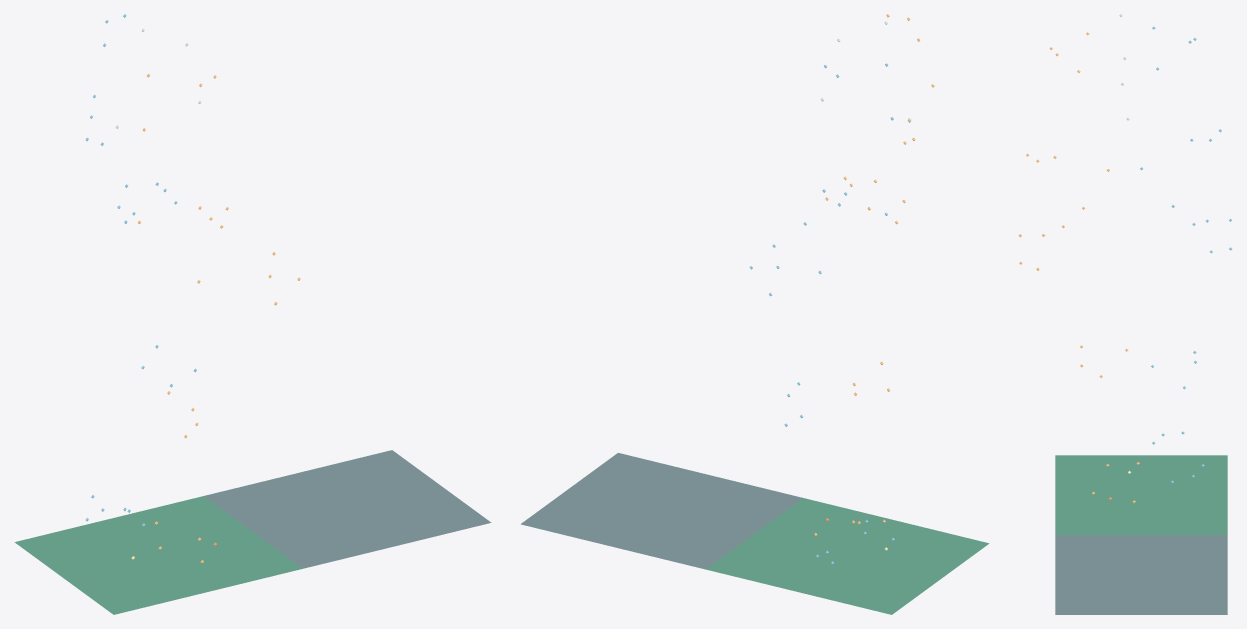
File: pose-59.glb
The picture shows the model from 3 angles, left to right: view 1: azimuth 30°, elevation 25°; view 2: azimuth 150°, elevation 25°; view 3: azimuth 270°, elevation 25°; orthographic projection. The views are drawn at different scales.
Visible parts, largest first — view 1: Plate 1 surface, Plate 2 surface; view 2: Plate 1 surface, Plate 2 surface; view 3: Plate 1 surface, Plate 2 surface.
Part boxes in pixels (x1,y1,x2,y2): Plate 1 surface: [14, 496, 302, 614]; Plate 2 surface: [204, 450, 491, 568]; Plate 1 surface: [706, 498, 989, 614]; Plate 2 surface: [521, 453, 802, 569]; Plate 1 surface: [1055, 455, 1227, 535]; Plate 2 surface: [1055, 535, 1227, 614].
Size of the model in its own units: 1.02 by 1.4 by 0.5767.
